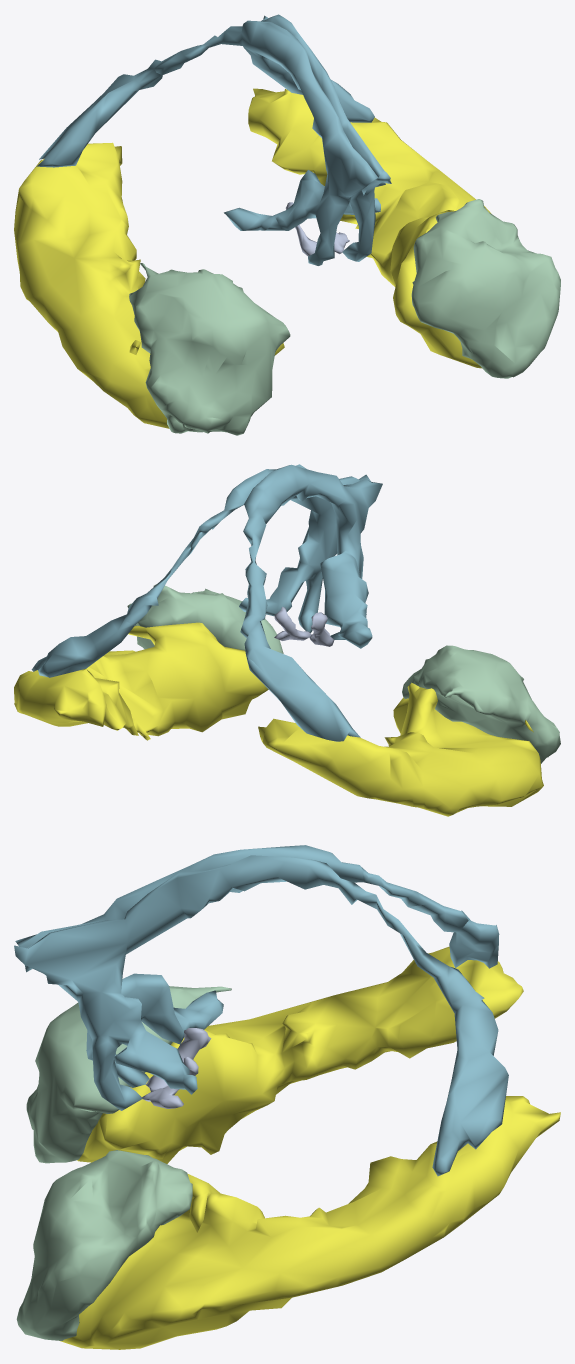
File: limbic.lod2.glb
The picture shows the model from 3 angles, top to bottom: view 1: azimuth 30°, elevation 25°; view 2: azimuth 150°, elevation 25°; view 3: azimuth 270°, elevation 25°; orthographic projection. The views are drawn at different scales.
Parts seen in each view (by area): view 1: hippocampus-r, amygdala-r, amygdala-l, hippocampus-l, fornix-of-forebrain-r, fornix-of-forebrain-l; view 2: hippocampus-r, hippocampus-l, fornix-of-forebrain-r, fornix-of-forebrain-l, amygdala-r, amygdala-l, mammillothalamic-tract-l, mammillothalamic-tract-r; view 3: hippocampus-l, fornix-of-forebrain-l, hippocampus-r, amygdala-l, fornix-of-forebrain-r, amygdala-r, mammillothalamic-tract-r, mammillothalamic-tract-l.
Part boxes in pixels (x1,y1,x2,y2): hippocampus-r: (14,142,284,428); amygdala-r: (129,263,290,435); amygdala-l: (411,199,560,378); hippocampus-l: (248,88,491,368); fornix-of-forebrain-r: (37,20,377,265); fornix-of-forebrain-l: (243,14,391,261); hippocampus-r: (258,682,543,816); hippocampus-l: (14,622,268,740); fornix-of-forebrain-r: (240,464,382,741); fornix-of-forebrain-l: (31,464,370,677); amygdala-r: (402,645,560,763); amygdala-l: (127,584,283,653); mammillothalamic-tract-l: (274,606,311,640); mammillothalamic-tract-r: (309,612,334,646); hippocampus-l: (60,1096,560,1349); fornix-of-forebrain-l: (14,855,508,1176); hippocampus-r: (77,946,523,1163); amygdala-l: (16,1150,192,1340); fornix-of-forebrain-r: (15,845,499,1087); amygdala-r: (26,986,231,1163); mammillothalamic-tract-r: (145,1028,211,1091); mammillothalamic-tract-l: (142,1057,198,1108).
Bounding box in the file's own units: 0.0697 × 0.0482 × 0.0586.
